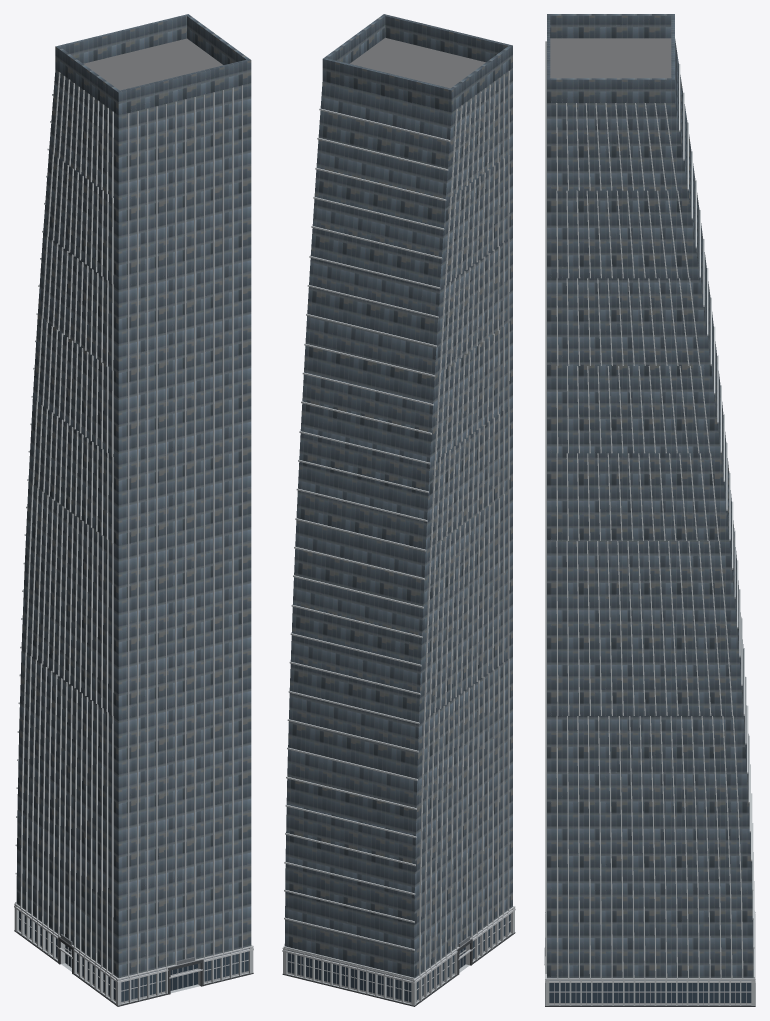
The model's file is two_manhattan_west.glb.
3 renders of one model, left to right at view 1: azimuth 30°, elevation 25°; view 2: azimuth 150°, elevation 25°; view 3: azimuth 270°, elevation 25°, orthographic. The views are drawn at different scales.
Visible parts, largest first — view 1: two_manhattan_west; view 2: two_manhattan_west; view 3: two_manhattan_west.
Part boxes in pixels (<box>): two_manhattan_west: <box>14,14,253,1006</box>; two_manhattan_west: <box>282,14,515,1006</box>; two_manhattan_west: <box>544,14,755,1006</box>.
Bounding box in the file's own units: 44.6 × 285 × 58.9.
2 materials, 2 textured.
